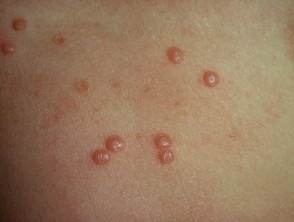Warts: (92, 128, 129, 171), (152, 131, 179, 167), (164, 44, 189, 69), (201, 67, 224, 91), (10, 12, 31, 36), (2, 37, 17, 61)
